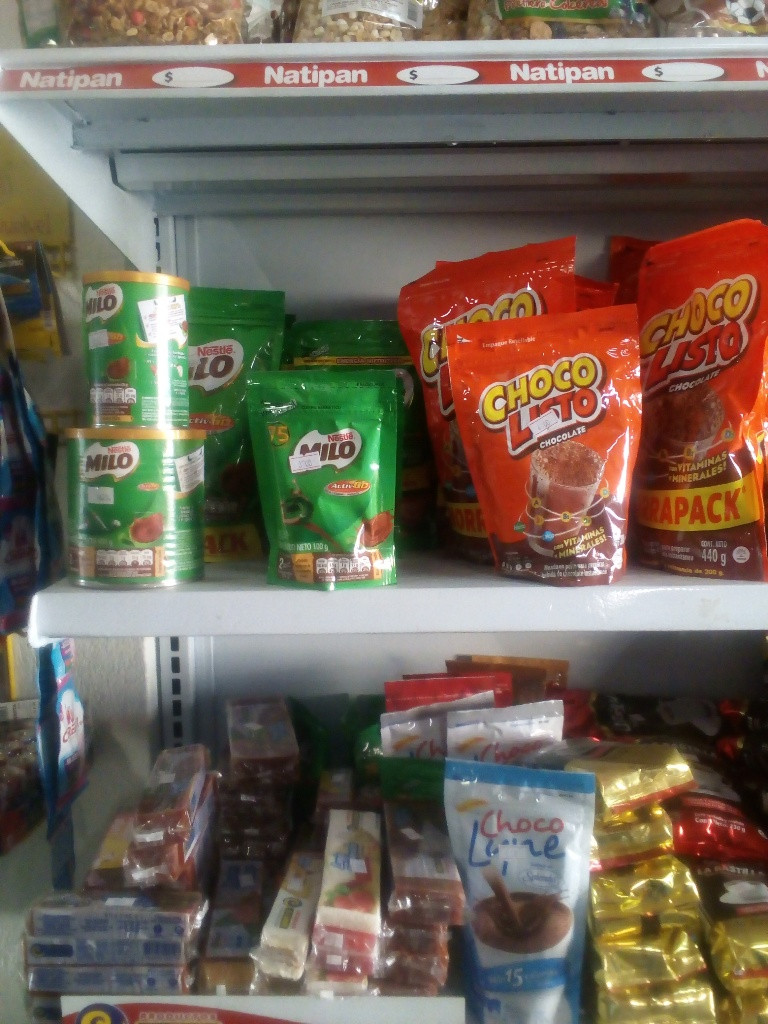COL0170103DYP44000: (640, 239, 767, 584)
COL0170203DYP10000: (240, 363, 425, 592)
COL0170203LAT20000: (79, 265, 201, 427)
COL0170203LAT40000: (62, 419, 206, 589)
